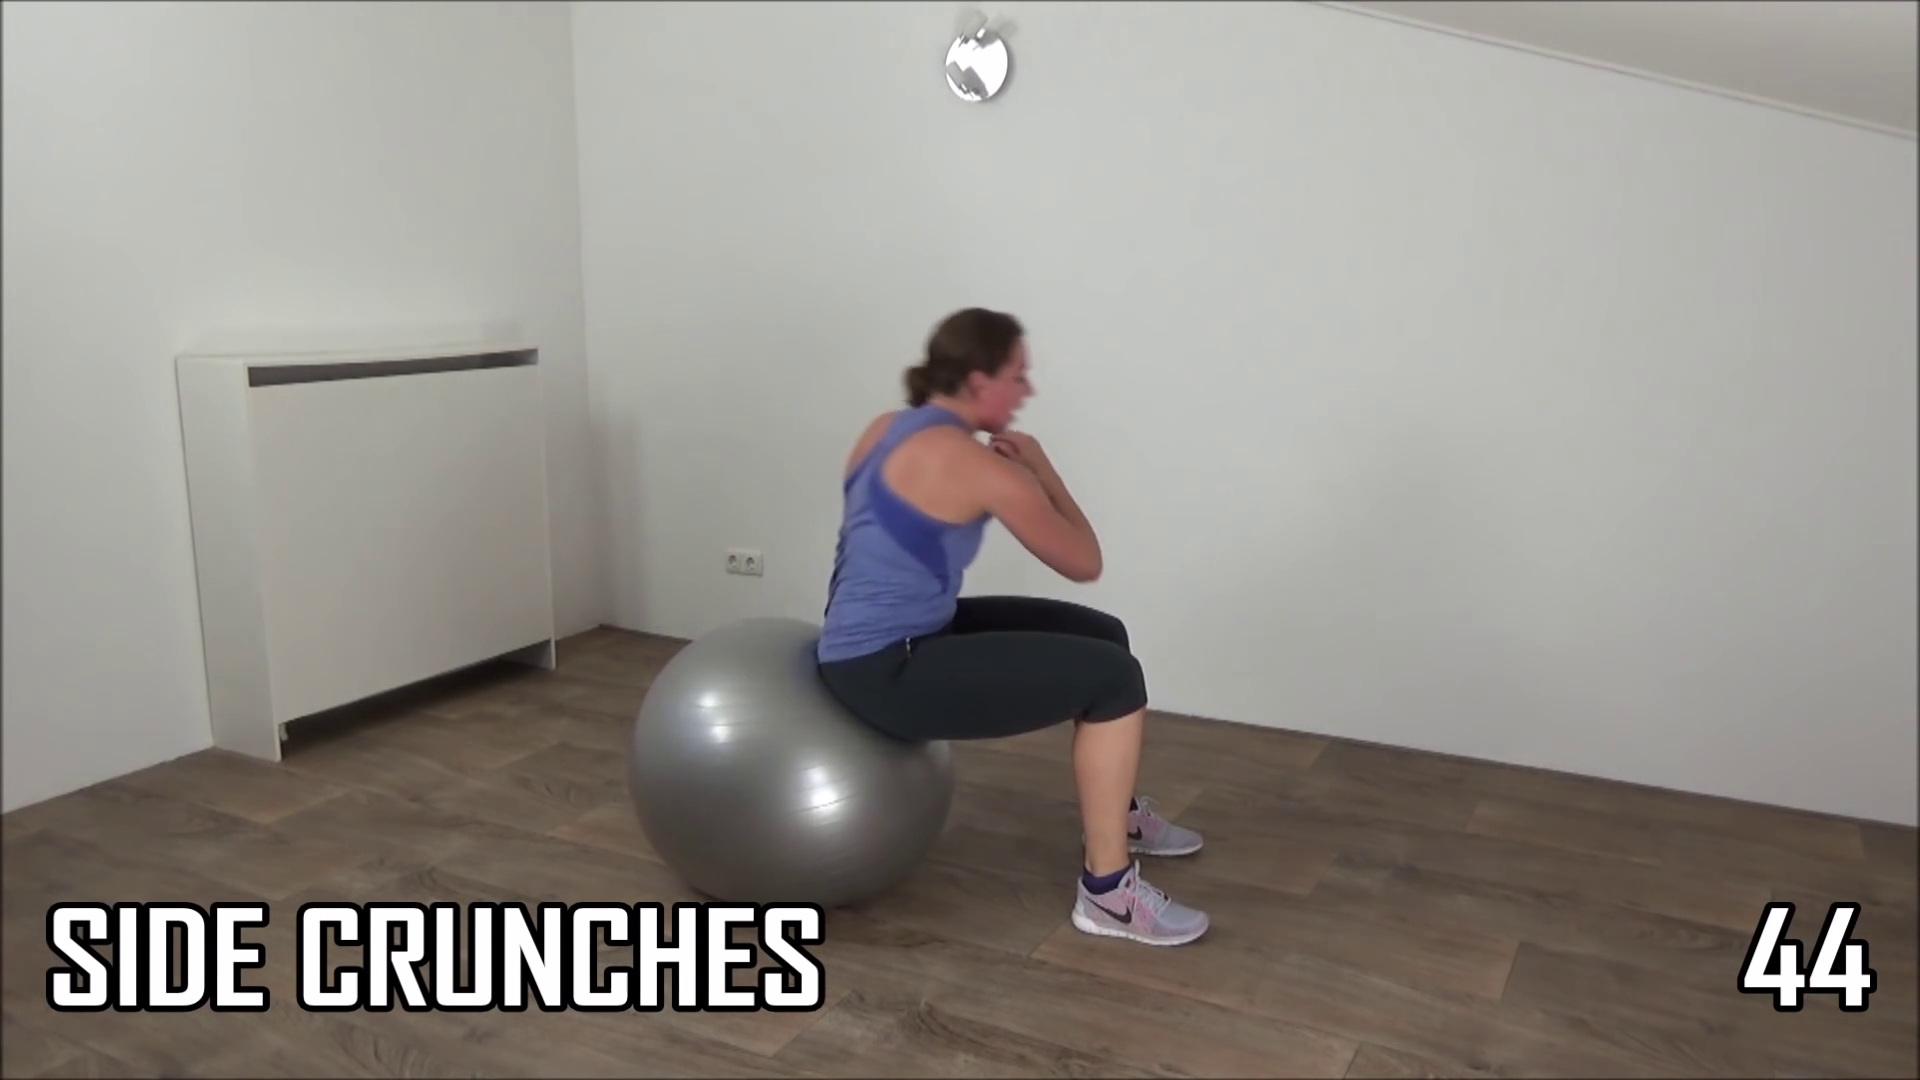yogaball: (633, 611, 965, 916)
